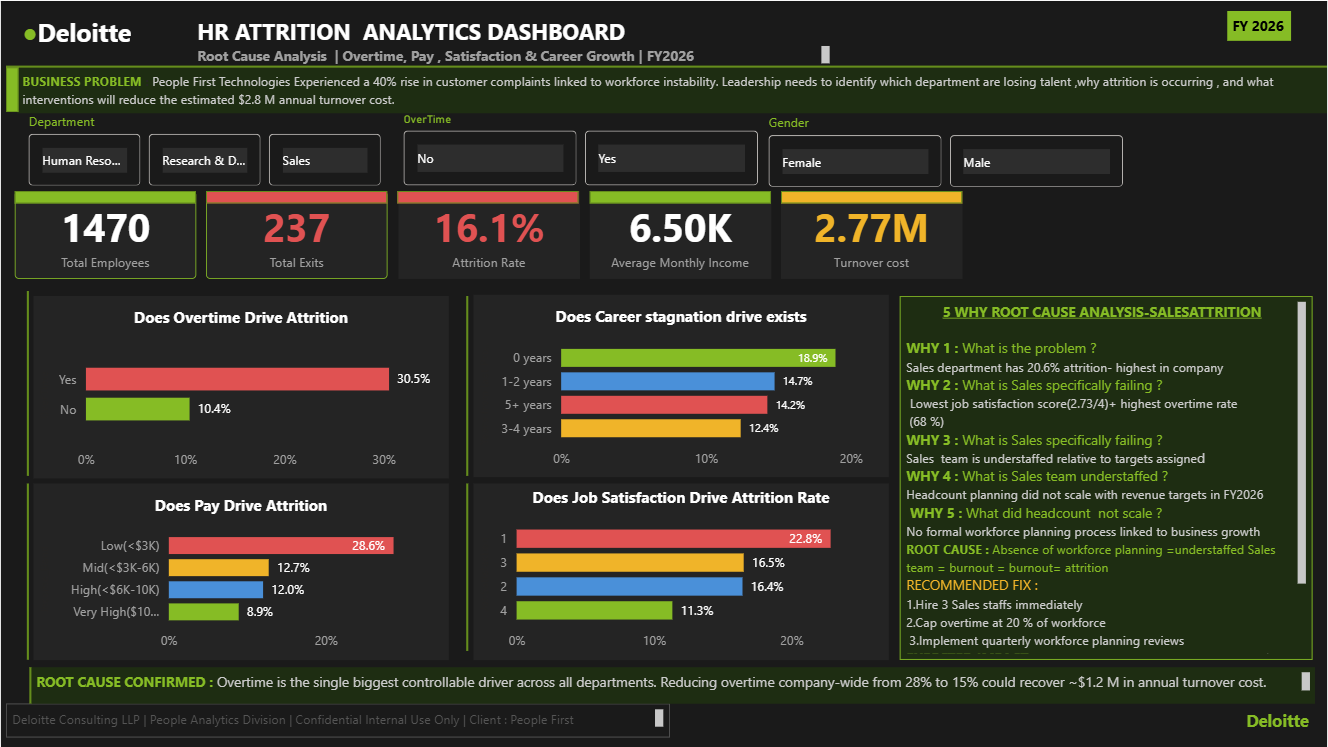

Layout of this report page (visuals, bound fields, positions):
{"tool":"powerbi","page":{"name":"Root Cause Analysis","canvas":[1280,720],"ordinal":2},"visuals":[{"type":"textbox","box":[16,10,125.5,56.7],"z":0},{"type":"textbox","box":[184.6,9.7,620.1,42.2],"z":1000},{"type":"textbox","box":[184.6,38.6,620.1,27.7],"z":2000},{"type":"textbox","box":[15.7,62.7,1265,45.8],"z":3000},{"type":"shape","box":[4.8,60.3,1275.2,6],"z":4000},{"type":"card","fields":{"Values":["HR Attrition csv.Total Employees"]},"box":[13.2,182.9,175,85],"z":5000},{"type":"card","fields":{"Values":["HR Attrition csv.Total Exits"]},"box":[198.2,182.9,175,85],"z":6000},{"type":"shape","box":[13.8,183.4,174.9,12.1],"z":7000},{"type":"shape","box":[198.3,183.4,174.9,12.1],"z":8000},{"type":"card","fields":{"Values":["HR Attrition csv.Attrition Rate"]},"box":[383.2,182.9,175,85],"z":9000},{"type":"shape","box":[382.9,183.4,174.9,12.1],"z":10000},{"type":"card","fields":{"Values":["HR Attrition csv.Average Monthly Income"]},"box":[568.2,182.9,175,85],"z":11000},{"type":"shape","box":[568.7,183.4,174.9,12.1],"z":12000},{"type":"card","fields":{"Values":["HR Attrition csv.Turnover cost"]},"box":[753.2,183.4,175,85],"z":13000},{"type":"shape","box":[753.3,183.4,174.9,12.1],"z":14000},{"type":"shape","box":[4.8,63.9,12.1,43.4],"z":15000},{"type":"advancedSlicerVisual","fields":{"Values":["HR Attrition csv.OverTime"]},"box":[383.6,107.4,352.3,76],"z":16000},{"type":"advancedSlicerVisual","fields":{"Values":["HR Attrition csv.Department"]},"box":[21.7,107.4,352,76],"z":17000},{"type":"advancedSlicerVisual","fields":{"Values":["HR Attrition csv.Gender"]},"box":[735.9,108.6,352.3,76],"z":18000},{"type":"textbox","box":[1183.5,9.7,61.5,29],"z":19000},{"type":"shape","box":[0,678,1280,12.1],"z":20000},{"type":"textbox","box":[4.8,678,640.6,32.6],"z":21000},{"type":"textbox","box":[1196.8,678,83.2,32.6],"z":22000},{"type":"shape","box":[10.9,279.9,30.2,178.6],"z":23000},{"type":"shape","box":[436,284.7,29,173.7],"z":24000},{"type":"clusteredBarChart","title":"Does Overtime Drive Attrition","fields":{"Y":["HR Attrition csv.Attrition Rate"],"Category":["HR Attrition csv.OverTime"]},"box":[31.4,284.7,400.5,176.1],"z":25000},{"type":"clusteredBarChart","title":"Does Career stagnation drive exists","fields":{"Y":["HR Attrition csv.Attrition Rate"],"Category":["HR Attrition csv.Years from last Promotion"]},"box":[456,283.5,400.5,176.1],"z":26000},{"type":"clusteredBarChart","title":"Does Pay Drive Attrition","fields":{"Y":["HR Attrition csv.Attrition Rate"],"Category":["HR Attrition csv.Income_Band"]},"box":[31.4,465.7,400.5,170.1],"z":27000},{"type":"clusteredBarChart","title":"Does Job Satisfaction Drive Attrition Rate  ","fields":{"Y":["HR Attrition csv.Attrition Rate"],"Category":["HR Attrition csv.JobSatisfaction"]},"box":[456,465.7,400.5,170.1],"z":28000},{"type":"shape","box":[10.9,465.7,30.2,170.1],"z":29000},{"type":"shape","box":[435.5,465.7,29,161.7],"z":30000},{"type":"textbox","box":[867.4,284.7,398.1,351.1],"z":31000},{"type":"textbox","box":[29,643,1239,35],"z":32000},{"type":"shape","box":[13.3,643,30.2,35],"z":33000}]}

Visuals, with their boxes in screenshot pixels (x1, y1, x2, y2), scaled from the page's 1280x720 canvas onto the 1328x747 screenshot:
textbox: bbox=[17, 10, 147, 69]
textbox: bbox=[192, 10, 835, 54]
textbox: bbox=[192, 40, 835, 69]
textbox: bbox=[16, 65, 1327, 113]
shape: bbox=[5, 63, 1327, 69]
card - HR Attrition csv.Total Employees: bbox=[14, 190, 195, 278]
card - HR Attrition csv.Total Exits: bbox=[206, 190, 387, 278]
shape: bbox=[14, 190, 196, 203]
shape: bbox=[206, 190, 387, 203]
card - HR Attrition csv.Attrition Rate: bbox=[398, 190, 579, 278]
shape: bbox=[397, 190, 579, 203]
card - HR Attrition csv.Average Monthly Income: bbox=[590, 190, 771, 278]
shape: bbox=[590, 190, 771, 203]
card - HR Attrition csv.Turnover cost: bbox=[781, 190, 963, 278]
shape: bbox=[782, 190, 963, 203]
shape: bbox=[5, 66, 18, 111]
advancedSlicerVisual - HR Attrition csv.OverTime: bbox=[398, 111, 763, 190]
advancedSlicerVisual - HR Attrition csv.Department: bbox=[23, 111, 388, 190]
advancedSlicerVisual - HR Attrition csv.Gender: bbox=[763, 113, 1129, 192]
textbox: bbox=[1228, 10, 1292, 40]
shape: bbox=[0, 703, 1327, 716]
textbox: bbox=[5, 703, 670, 737]
textbox: bbox=[1242, 703, 1327, 737]
shape: bbox=[11, 290, 43, 476]
shape: bbox=[452, 295, 482, 476]
"Does Overtime Drive Attrition" clusteredBarChart: bbox=[33, 295, 448, 478]
"Does Career stagnation drive exists" clusteredBarChart: bbox=[473, 294, 889, 477]
"Does Pay Drive Attrition" clusteredBarChart: bbox=[33, 483, 448, 660]
"Does Job Satisfaction Drive Attrition Rate  " clusteredBarChart: bbox=[473, 483, 889, 660]
shape: bbox=[11, 483, 43, 660]
shape: bbox=[452, 483, 482, 651]
textbox: bbox=[900, 295, 1313, 660]
textbox: bbox=[30, 667, 1316, 703]
shape: bbox=[14, 667, 45, 703]
